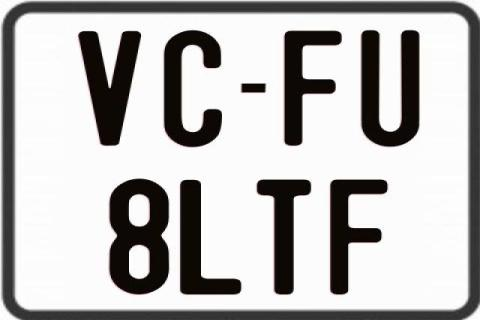0: (108, 177, 168, 297)
C: (162, 31, 225, 150)
F: (329, 177, 391, 295), (282, 31, 343, 147)
L: (178, 180, 242, 298)
T: (255, 180, 312, 296)
U: (360, 28, 424, 145)
V: (76, 29, 143, 148)
